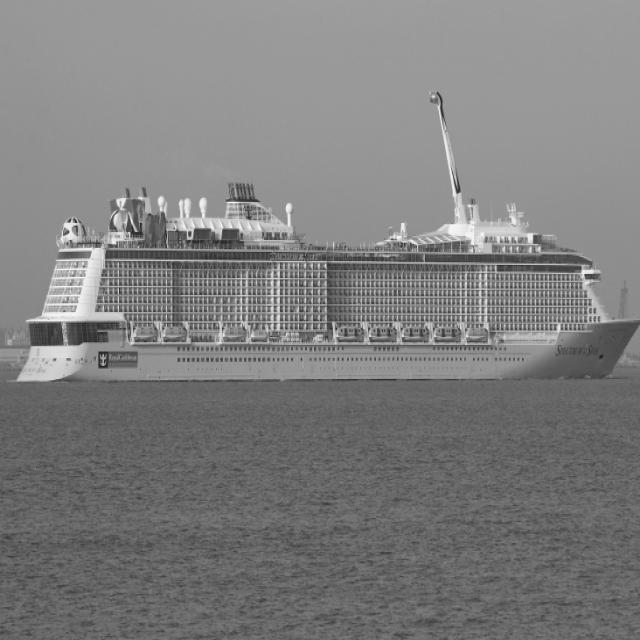cruises: (14, 88, 640, 404)
